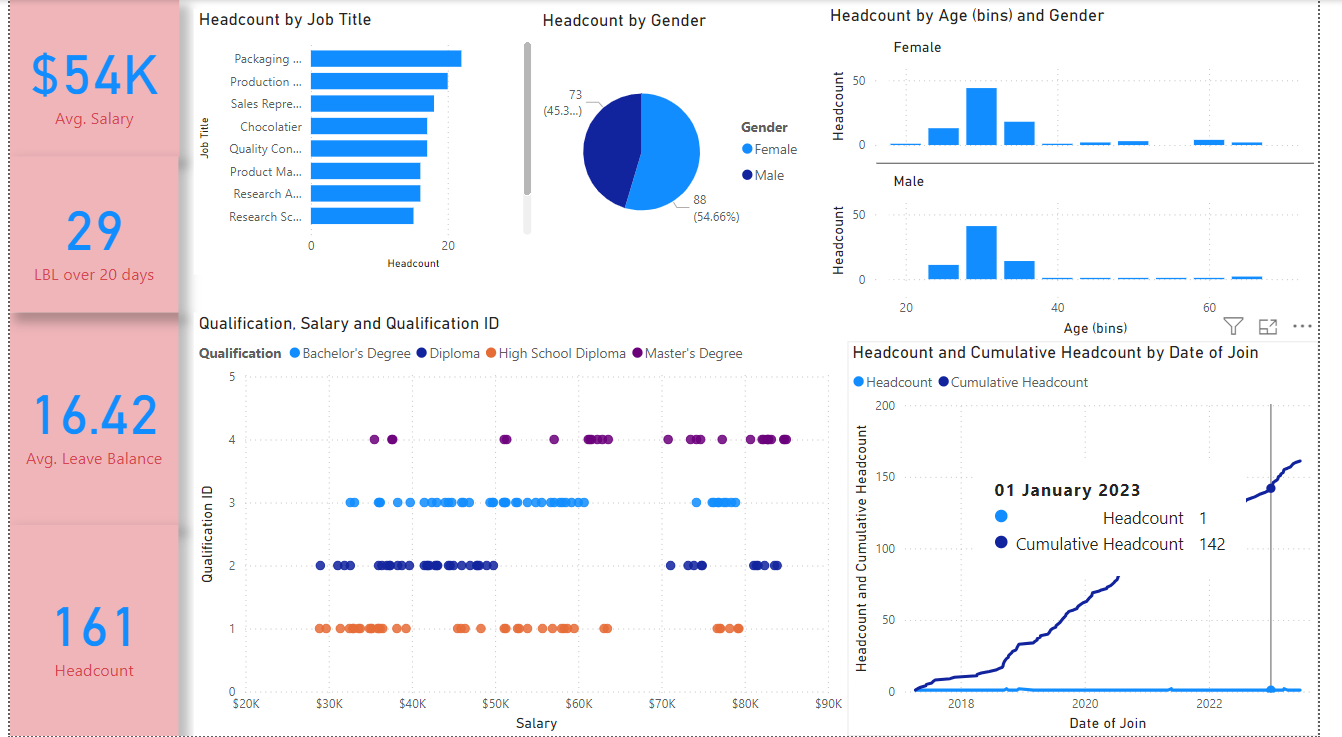

What the dashboard file says about the page in this screenshot:
{"tool":"powerbi","page":{"name":"Page 10","canvas":[1280,720],"ordinal":9},"visuals":[{"type":"card","fields":{"Values":["staff.Avg. Salary"]},"box":[0,0,165.6,153.3],"z":0},{"type":"card","fields":{"Values":["staff.Avg. Leave Balance"]},"box":[0,305.7,165.1,207.9],"z":1000},{"type":"card","fields":{"Values":["staff.Headcount"]},"box":[0,513.6,165.1,206.7],"z":2000},{"type":"card","fields":{"Values":["staff.LBL over 20 days"]},"box":[0,152.9,165.1,152.9],"z":3000},{"type":"clusteredBarChart","fields":{"Category":["staff.Job Title"],"Y":["staff.Headcount"]},"box":[180,8.9,335.6,260],"z":4000},{"type":"pieChart","fields":{"Category":["staff.Gender"],"Y":["staff.Headcount"]},"box":[515.6,10,270,258.9],"z":5000},{"type":"columnChart","fields":{"Category":["staff.Age (bins)"],"Y":["staff.Headcount"],"Rows":["staff.Gender"]},"box":[797.3,4.9,483,328.9],"z":6000},{"type":"scatterChart","fields":{"X":["staff.Salary"],"Y":["Qual.Qualification ID"],"Series":["Qual.Qualification"]},"box":[179.8,305.7,639.5,414.5],"z":7000},{"type":"lineChart","fields":{"Y":["staff.Headcount","staff.Cumulative Headcount"],"Category":["staff.Date of Join"]},"box":[819.3,333.8,461,386.4],"z":8000}]}

Visuals, with their boxes in screenshot pixels (x1, y1, x2, y2), scaled from the page's 1280x720 canvas onto the 1342x737 screenshot:
card - staff.Avg. Salary: 0 0 174 157
card - staff.Avg. Leave Balance: 0 313 173 526
card - staff.Headcount: 0 526 173 736
card - staff.LBL over 20 days: 0 157 173 313
clusteredBarChart - staff.Job Title x staff.Headcount: 189 9 541 275
pieChart - staff.Gender x staff.Headcount: 541 10 824 275
columnChart - staff.Age (bins) x staff.Headcount: 836 5 1341 342
scatterChart - staff.Salary x Qual.Qualification ID: 189 313 859 736
lineChart - staff.Headcount x staff.Cumulative Headcount: 859 342 1341 736
